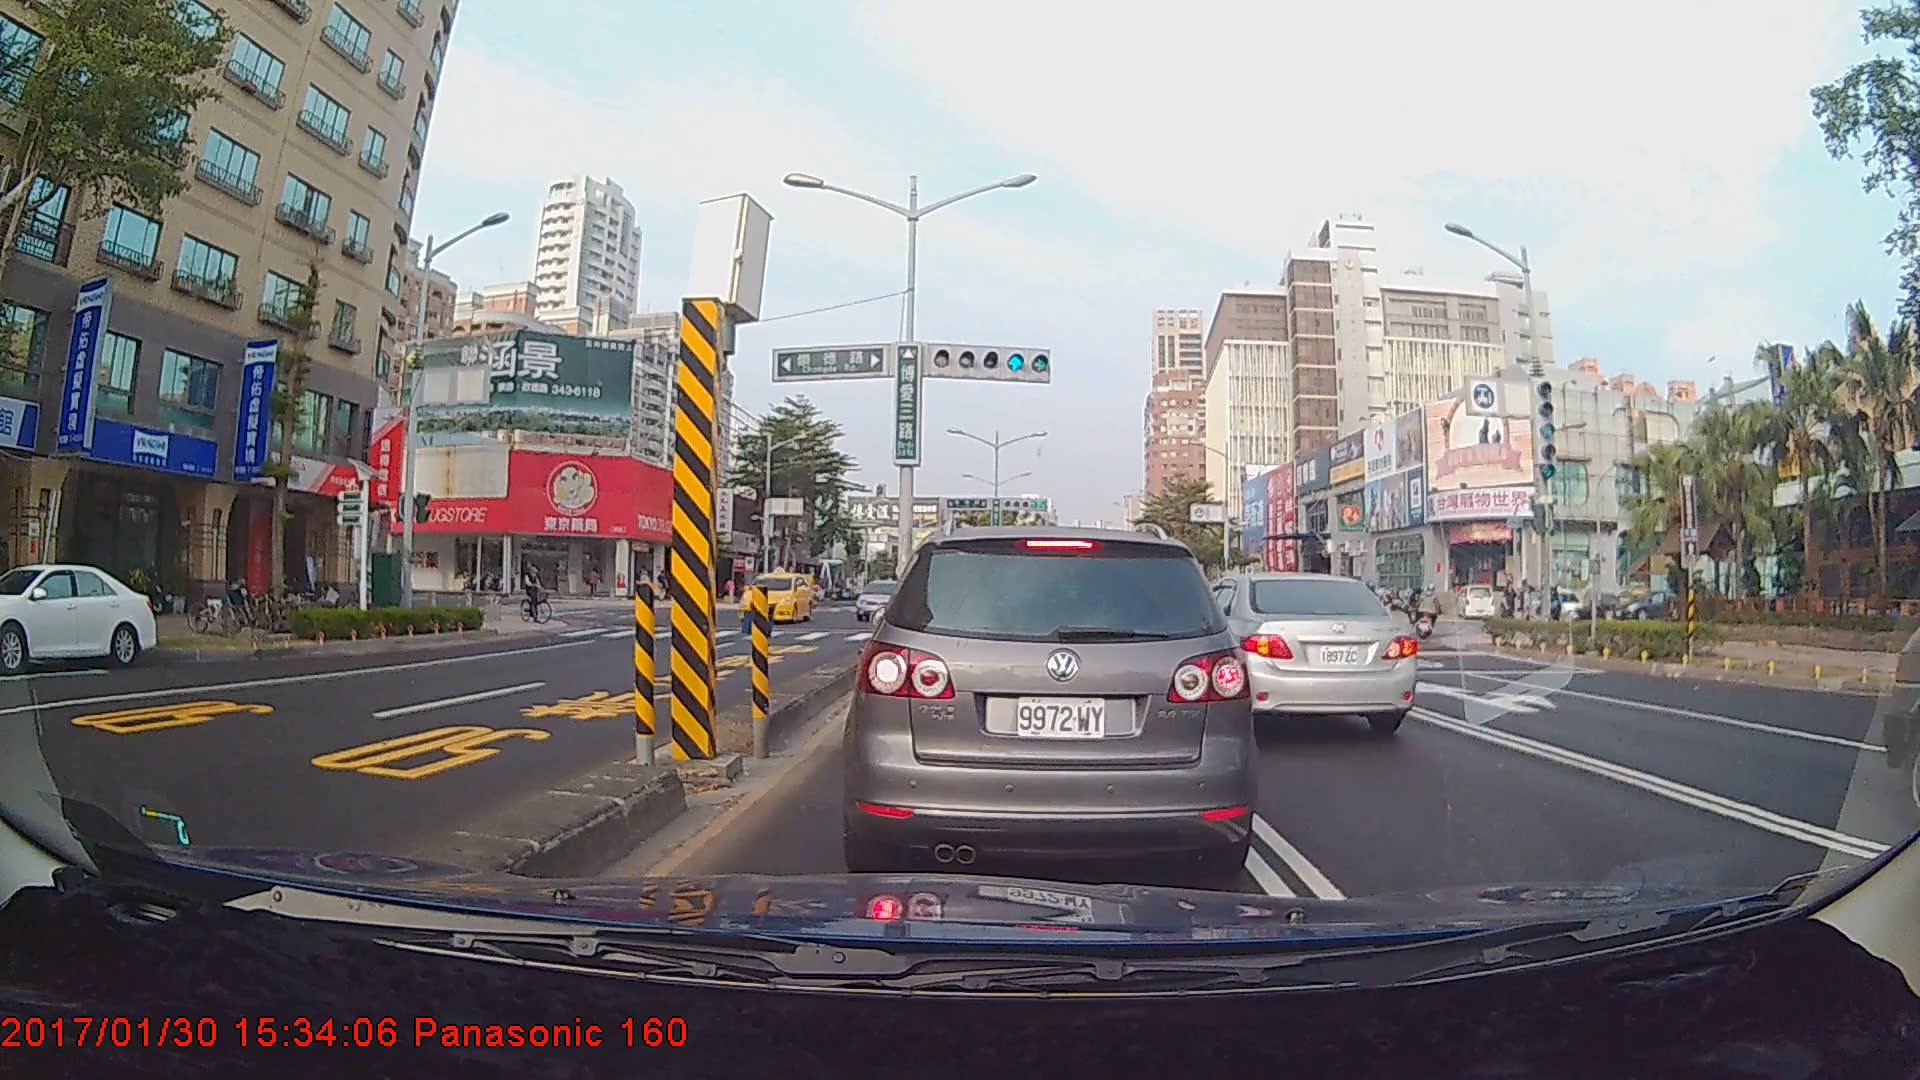rider: (518, 559, 561, 629), (1415, 582, 1442, 640)
vehicle: (854, 521, 1248, 884), (1149, 571, 1418, 740), (0, 561, 161, 671), (737, 573, 813, 624), (854, 576, 917, 624)
